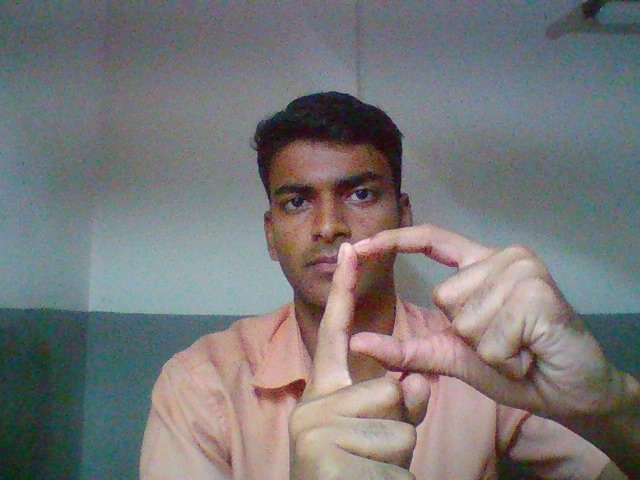P: (277, 215, 621, 472)
